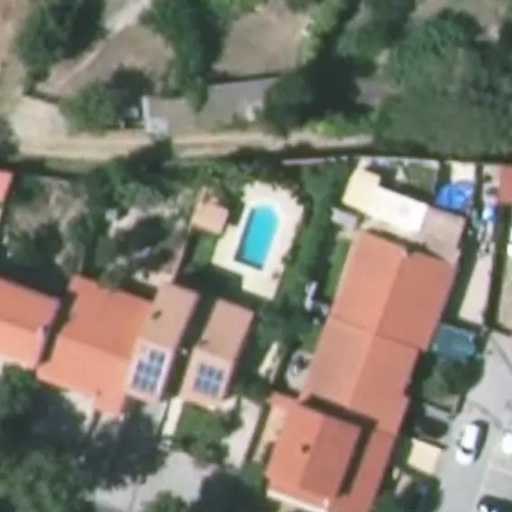pool: (232, 204, 279, 273)
